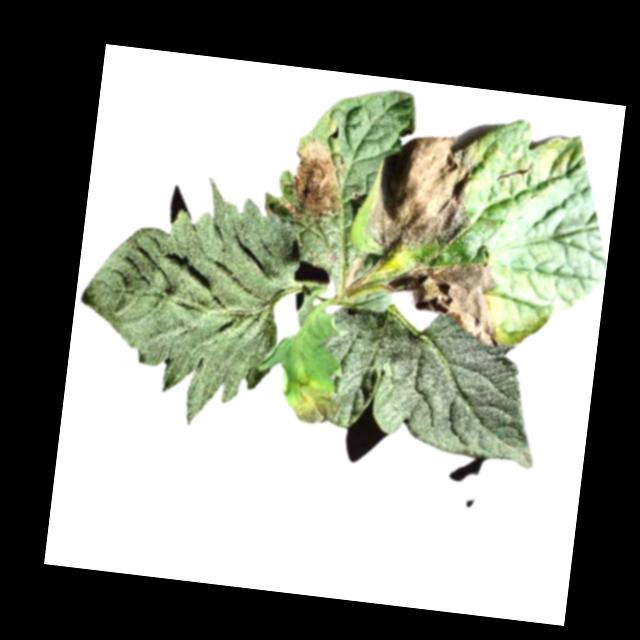Late_blight: (359, 127, 481, 260), (374, 250, 496, 347), (287, 134, 347, 221), (288, 379, 343, 428), (341, 257, 364, 294)
healthy: (66, 177, 307, 435), (326, 301, 549, 470)
